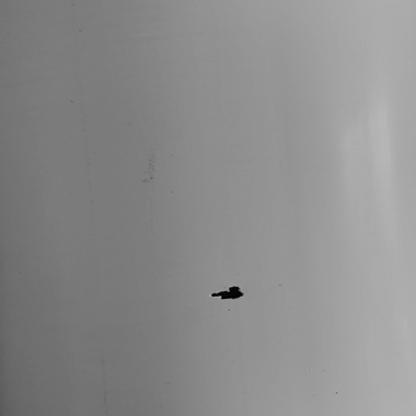kongdong: (205, 280, 249, 305)
